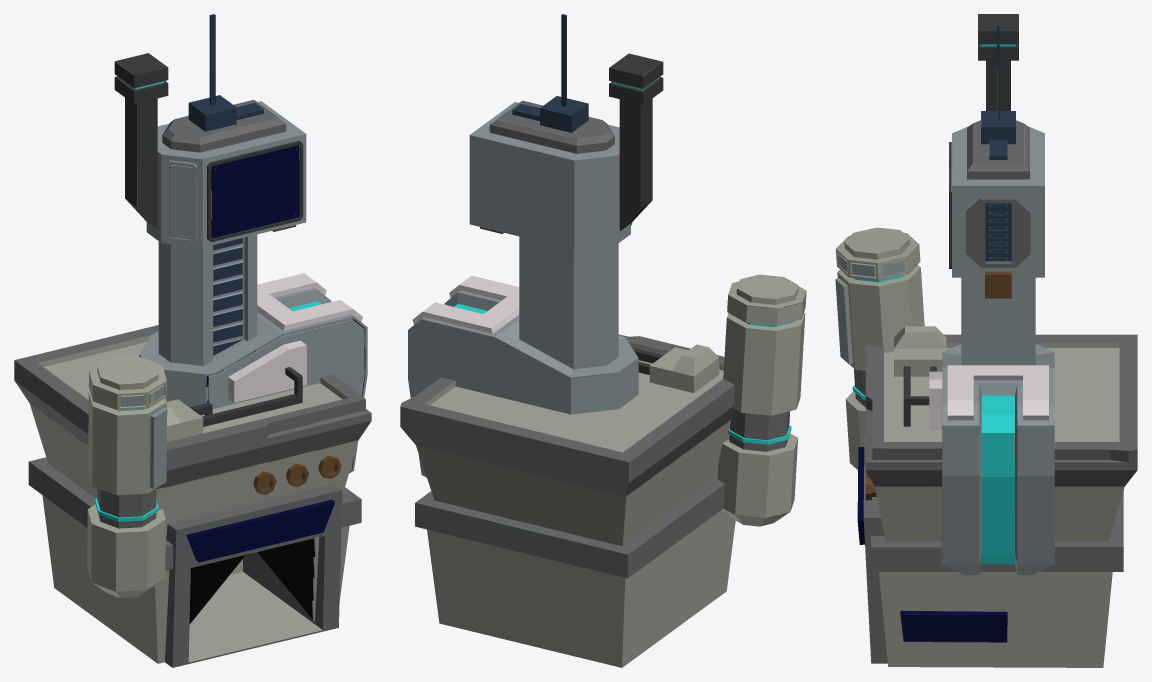
3 views of the same model, side by side, from view 1: azimuth 30°, elevation 25°; view 2: azimuth 150°, elevation 25°; view 3: azimuth 270°, elevation 25° (orthographic). The views are drawn at different scales.
Visible parts, largest first — view 1: 立方体.001; view 2: 立方体.001; view 3: 立方体.001.
Part boxes in pixels (<box>): 立方体.001: <box>14,14,371,667</box>; 立方体.001: <box>400,14,806,667</box>; 立方体.001: <box>835,14,1137,667</box>.
Bounding box in the file's own units: 234 × 426 × 193.
